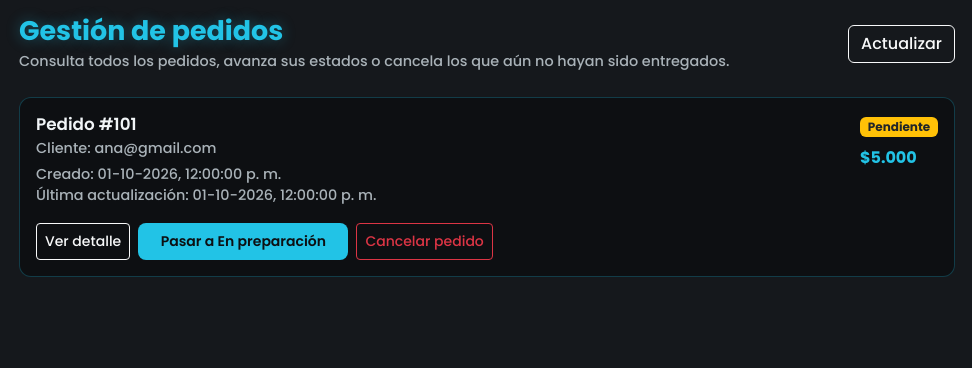
PanelPedidos › muestra el error correspondiente al fallar la operación de avanzar
The width and height of the screenshot is (972, 368).
What coordinates should you click on to do the following:
click the button "Pasar a En preparación"
I would click on:
 (243, 241)
Its box is [138,223,348,260].
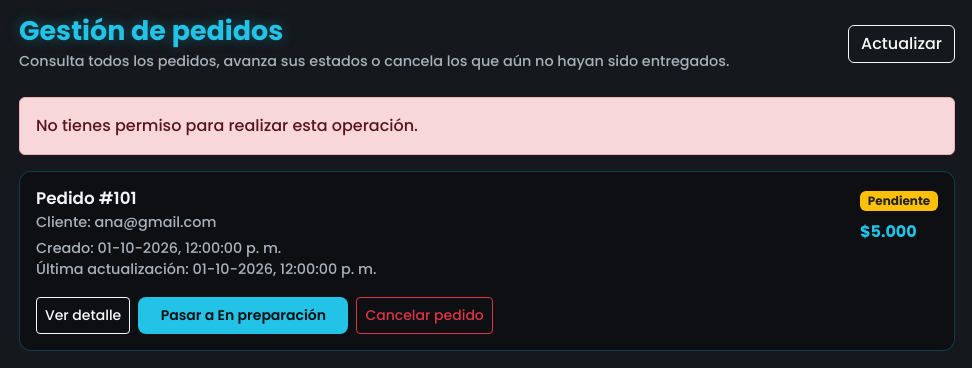
Expected: the button "Pasar a En preparación" is enabled, [138,297,348,334]
Now the message reads "No tienes permiso para realizar esta operación.", box [36,114,418,137]
